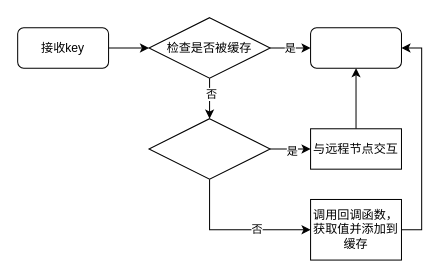
The diagram is 447 pixels wide and 278 high, and some of its shapes have lost their labels. Each missing label, with the centre of its shape:
是否应该从远程节点获取: the point at 209,148
返回缓存值: the point at 355,47
